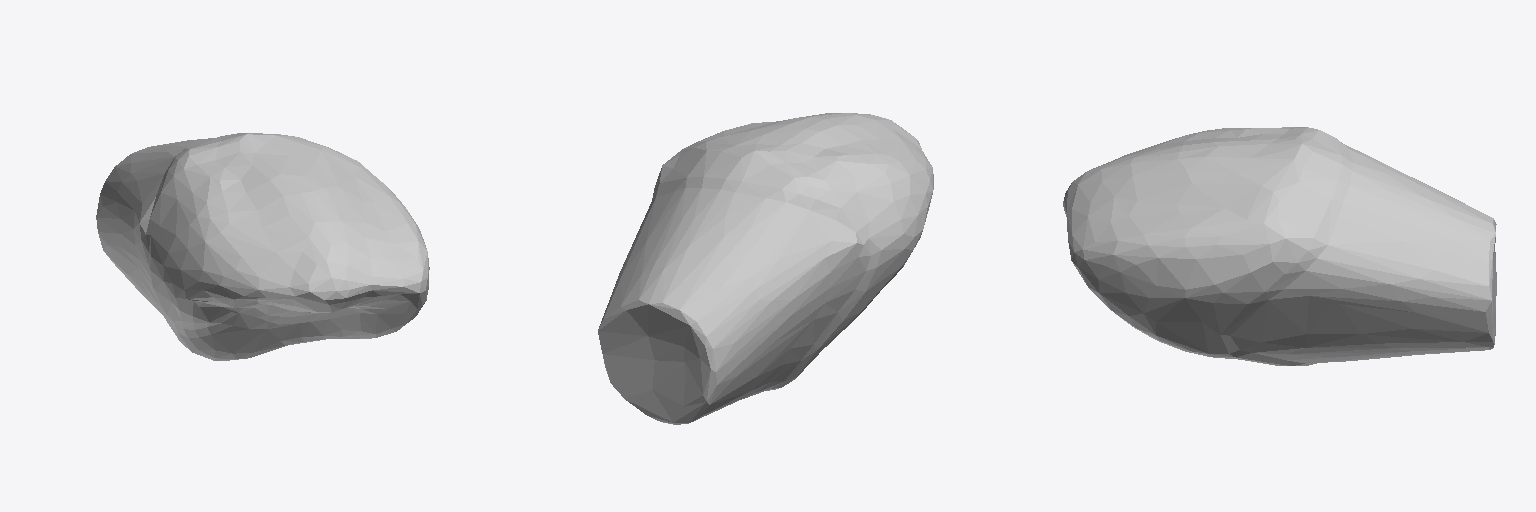
File: local_t33_7780_si.OBJ
3 renders of one model, left to right at view 1: azimuth 30°, elevation 25°; view 2: azimuth 150°, elevation 25°; view 3: azimuth 270°, elevation 25°, orthographic.
Visible parts, largest first — view 1: Group51149; view 2: Group51149; view 3: Group51149.
Part boxes in pixels (x1,y1,x2,y2): Group51149: (96, 133, 429, 360); Group51149: (598, 113, 933, 424); Group51149: (1063, 127, 1496, 365).
Size of the model in its own units: 7.33 by 6.88 by 11.97.